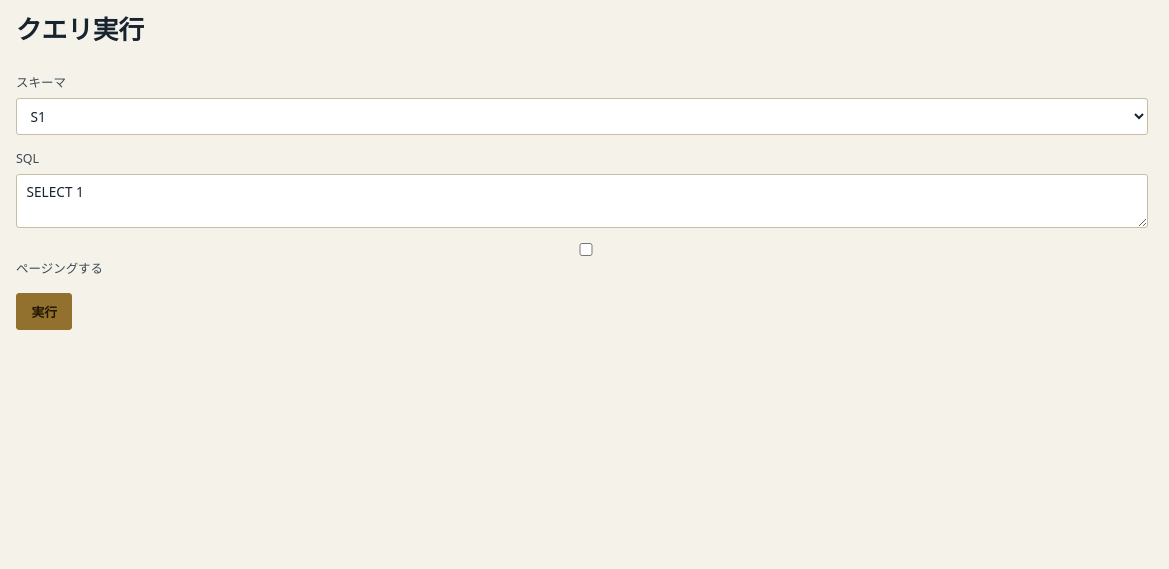
Test: QueryExecutionPage › re-executes with the next page when paging is enabled and the next button is clicked
Check: the dropdown with test id "query-execution-page-schema-select" is shown, box [16,98,1148,135]
Click the checkbox with test id "query-execution-page-paging-checkbox": (586, 249) [20,243,1152,256]
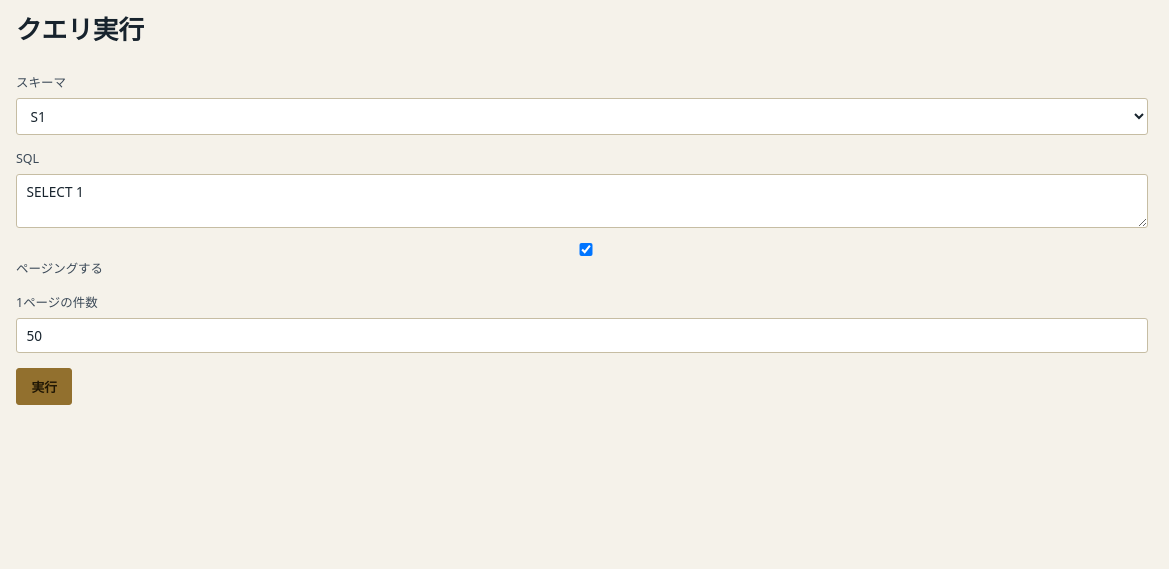
Click the button with test id "query-execution-page-execute-button": (44, 386) [16,368,72,405]
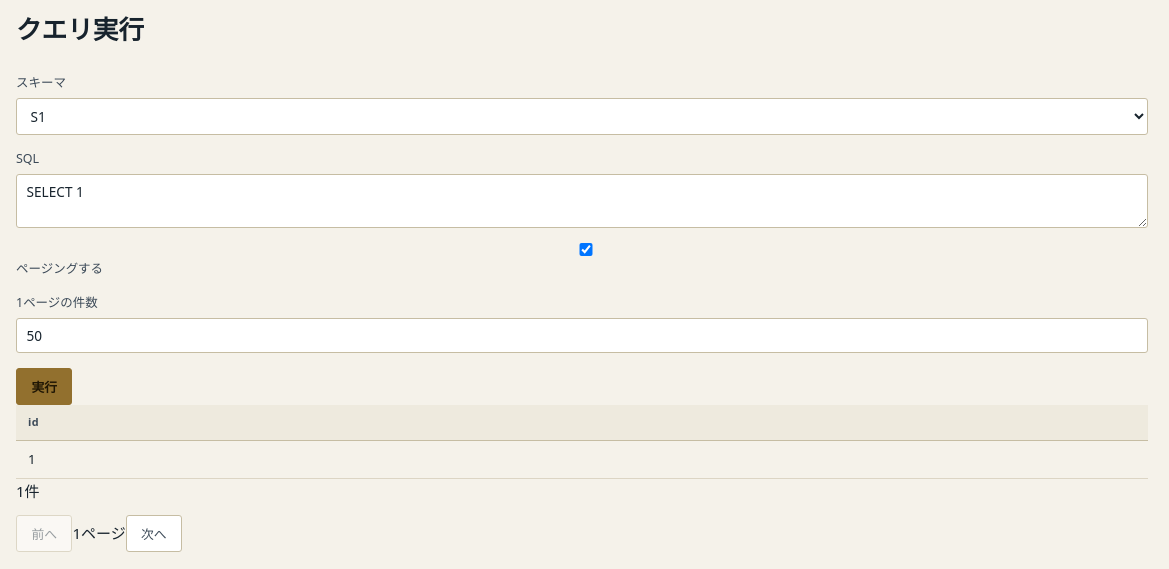
Check: the element with test id "query-execution-page-result" is shown, box [16,405,1148,552]
Click the button with test id "query-execution-page-next-button": (154, 533) [126,515,182,552]
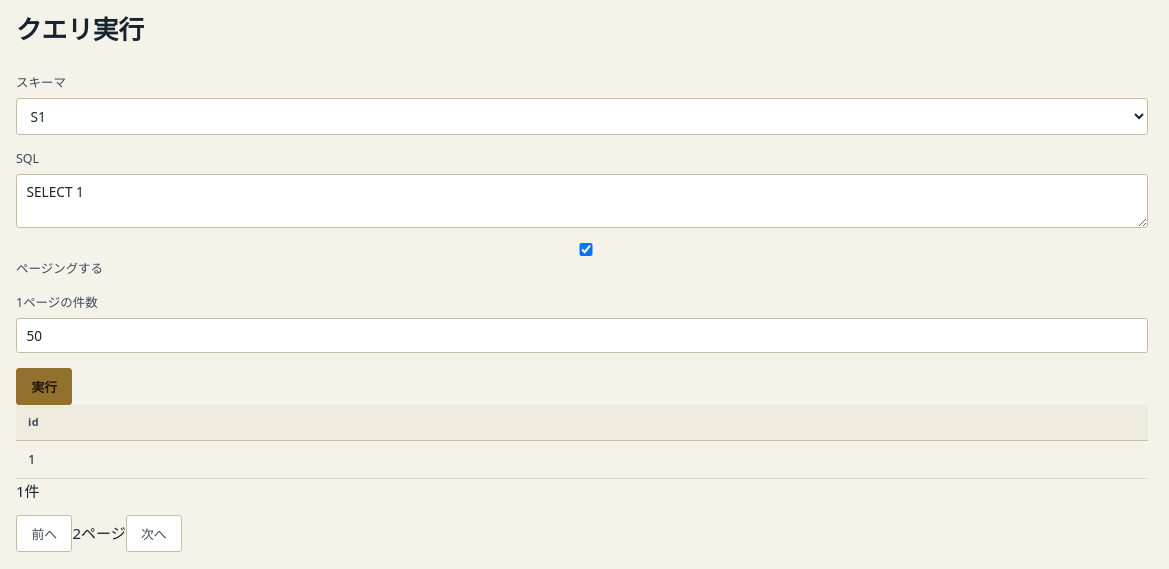
Check: the text "2ページ" is shown, box [72,523,126,543]
